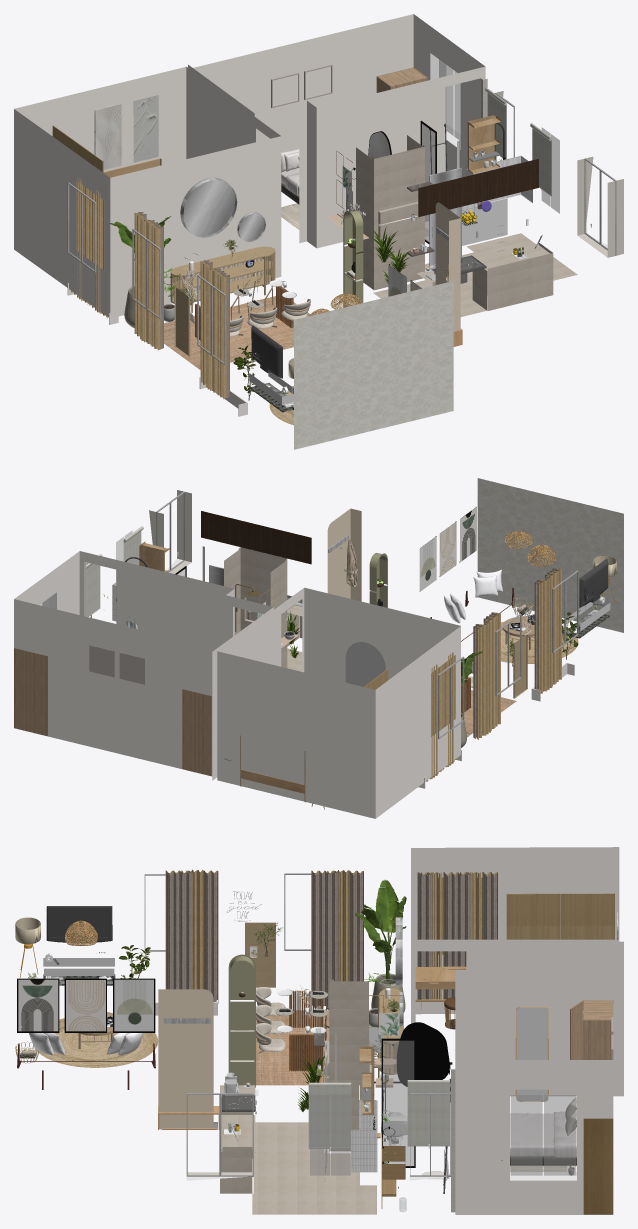
The model's file is burgos-floor-1-hd-1.glb.
3 views of the same model, one above another, from view 1: azimuth 30°, elevation 25°; view 2: azimuth 150°, elevation 25°; view 3: azimuth 270°, elevation 25° (orthographic). The views are drawn at different scales.
Visible parts, largest first — view 1: structure, piece_6, piece_0, piece_260, piece_52, piece_7, piece_122, piece_54, piece_120, piece_121, piece_4, piece_79 (+12 smaller); view 2: structure, piece_6, piece_95, piece_97, piece_52, piece_0, piece_116, piece_54, piece_271, piece_79, piece_261, piece_36 (+14 smaller); view 3: structure, piece_6, piece_0, piece_4, piece_7, piece_140, piece_54, piece_95, piece_35, piece_166, piece_85, piece_97 (+19 smaller).
Part boxes in pixels (x1,y1,x2,y2): structure: (14, 14, 591, 449); piece_6: (418, 159, 542, 346); piece_0: (457, 115, 559, 237); piece_260: (180, 177, 265, 241); piece_52: (577, 156, 623, 257); piece_7: (462, 87, 507, 245); piece_122: (170, 239, 275, 312); piece_54: (343, 210, 363, 307); piece_120: (94, 103, 121, 169); piece_121: (133, 95, 158, 162); piece_4: (430, 53, 460, 149); piece_79: (174, 268, 197, 357); structure: (14, 478, 623, 818); piece_6: (201, 508, 361, 606); piece_95: (14, 648, 47, 736); piece_97: (182, 689, 211, 776); piece_52: (149, 490, 191, 573); piece_0: (112, 526, 204, 621); piece_116: (430, 569, 532, 641); piece_54: (369, 553, 387, 607); piece_271: (579, 559, 608, 607); piece_79: (511, 605, 534, 698); piece_261: (504, 531, 556, 567); piece_36: (563, 556, 616, 631); structure: (28, 847, 623, 1214); piece_6: (158, 989, 256, 1141); piece_0: (308, 1033, 377, 1175); piece_4: (510, 1095, 576, 1180); piece_7: (381, 1075, 449, 1211); piece_140: (510, 1097, 576, 1165); piece_54: (228, 954, 255, 1087); piece_95: (583, 1118, 613, 1214); piece_35: (396, 1022, 449, 1086); piece_166: (355, 880, 406, 1026); piece_85: (33, 1018, 158, 1067); piece_97: (570, 1000, 613, 1059).
Size of the model in its own units: 9.13 by 3.03 by 10.36.
253 materials, 164 textured.
